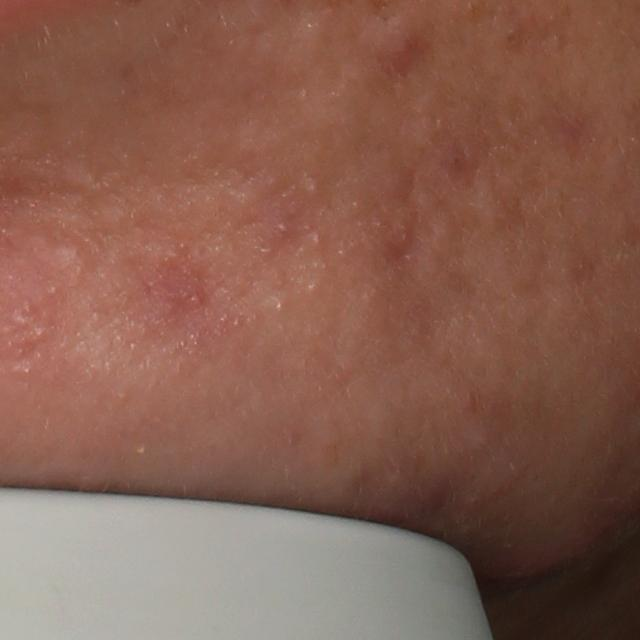comedo: (275, 299, 288, 314)
papule: (383, 19, 425, 71)
